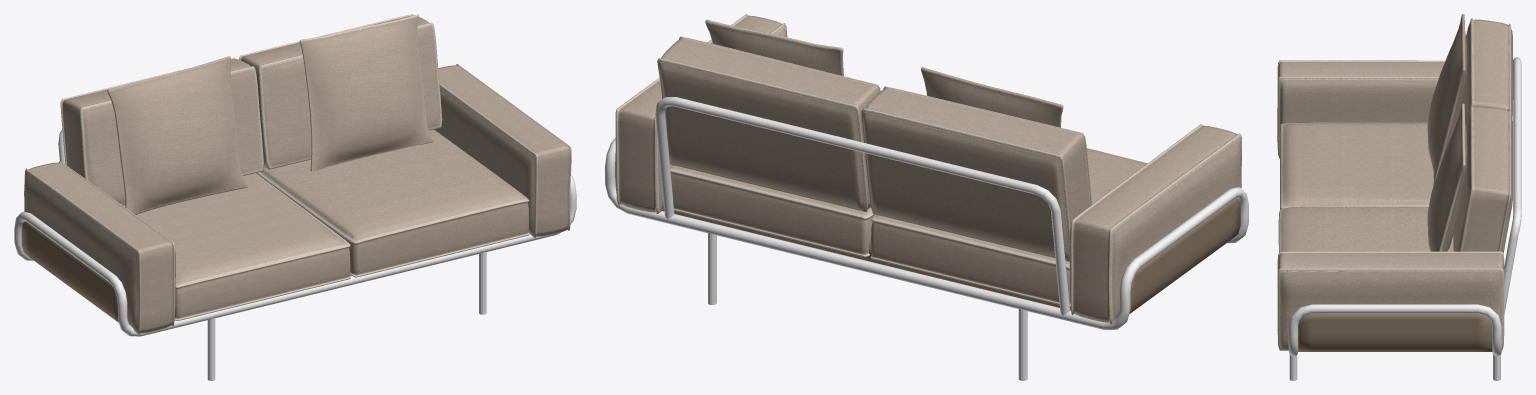
Rendered from IKEA_PS_2012_Three-seat_sofa_white-beige.glb.
The picture shows the model from 3 angles, left to right: view 1: azimuth 30°, elevation 25°; view 2: azimuth 150°, elevation 25°; view 3: azimuth 270°, elevation 25°; orthographic projection. The views are drawn at different scales.
Parts seen in each view (by area): view 1: cushion_base3_Cube.003, cushion_base2_Cube.004, cushion_Cube.007, cushion.001_Cube.006, cushion_base_Cube, cushion_base4_Cube.001, cushion_base5_Cube.005, cushion_base6_Cube.002, structure_Cylinder, cover_Cylinder.001; view 2: cushion_base6_Cube.002, cushion_base5_Cube.005, structure_Cylinder, cushion_base_Cube, cushion_base2_Cube.004, cushion_base3_Cube.003, cushion_base4_Cube.001, cover_Cylinder.001, cushion_Cube.007, cushion.001_Cube.006; view 3: cushion_base4_Cube.001, cushion_base2_Cube.004, cushion_base_Cube, cover_Cylinder.001, cushion_base5_Cube.005, cushion_base3_Cube.003, structure_Cylinder, cushion_base6_Cube.002, cushion.001_Cube.006, cushion_Cube.007.
Boxes of the visible parts, <box> form: cushion_base3_Cube.003: <box>256,129,529,277</box>; cushion_base2_Cube.004: <box>123,173,350,321</box>; cushion_Cube.007: <box>107,56,247,214</box>; cushion.001_Cube.006: <box>299,14,433,171</box>; cushion_base_Cube: <box>24,161,175,334</box>; cushion_base4_Cube.001: <box>434,64,571,238</box>; cushion_base5_Cube.005: <box>239,14,442,169</box>; cushion_base6_Cube.002: <box>60,57,263,205</box>; structure_Cylinder: <box>14,129,576,380</box>; cover_Cylinder.001: <box>21,221,350,322</box>; cushion_base6_Cube.002: <box>861,86,1092,261</box>; cushion_base5_Cube.005: <box>657,36,880,212</box>; structure_Cylinder: <box>605,97,1248,380</box>; cushion_base_Cube: <box>1069,124,1241,324</box>; cushion_base2_Cube.004: <box>870,148,1147,307</box>; cushion_base3_Cube.003: <box>670,164,875,257</box>; cushion_base4_Cube.001: <box>615,14,787,213</box>; cover_Cylinder.001: <box>662,198,1240,313</box>; cushion_Cube.007: <box>921,67,1063,127</box>; cushion.001_Cube.006: <box>705,19,843,76</box>; cushion_base4_Cube.001: <box>1277,251,1504,350</box>; cushion_base2_Cube.004: <box>1280,122,1433,209</box>; cushion_base_Cube: <box>1277,60,1445,158</box>; cover_Cylinder.001: <box>1298,313,1492,351</box>; cushion_base5_Cube.005: <box>1453,105,1512,253</box>; cushion_base3_Cube.003: <box>1278,206,1453,252</box>; structure_Cylinder: <box>1288,57,1521,380</box>; cushion_base6_Cube.002: <box>1459,18,1512,127</box>; cushion.001_Cube.006: <box>1427,103,1467,251</box>; cushion_Cube.007: <box>1427,14,1467,185</box>.
Bounding box in the file's own units: 2.21 × 1.08 × 1.04.
Materials: 5 (3 with a texture image).
